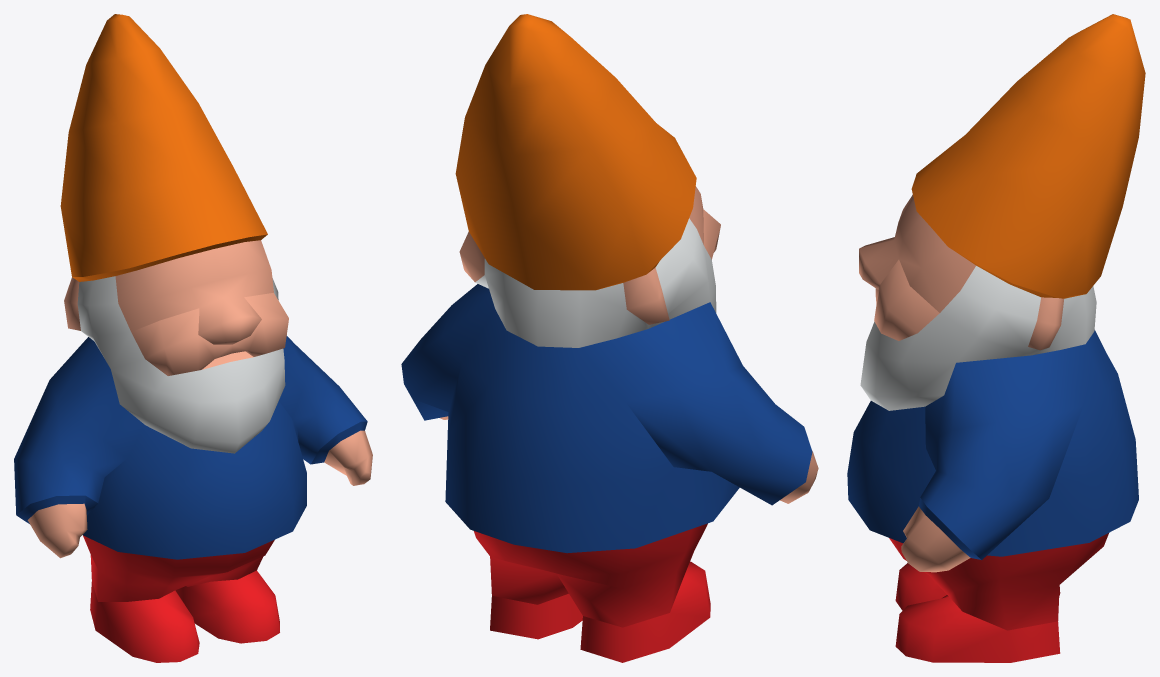
File: gnome01_s01.FBX
3 views of the same model, side by side, from view 1: azimuth 30°, elevation 25°; view 2: azimuth 150°, elevation 25°; view 3: azimuth 270°, elevation 25° (orthographic). The views are drawn at different scales.
Visible parts, largest first — view 1: gnome01_s01; view 2: gnome01_s01; view 3: gnome01_s01.
Boxes of the visible parts, x1,y1,x2,y2 form: gnome01_s01: [14, 14, 372, 662]; gnome01_s01: [401, 14, 818, 662]; gnome01_s01: [847, 14, 1145, 662].
Size of the model in its own units: 109 by 75.01 by 169.
1 material, 1 textured.
